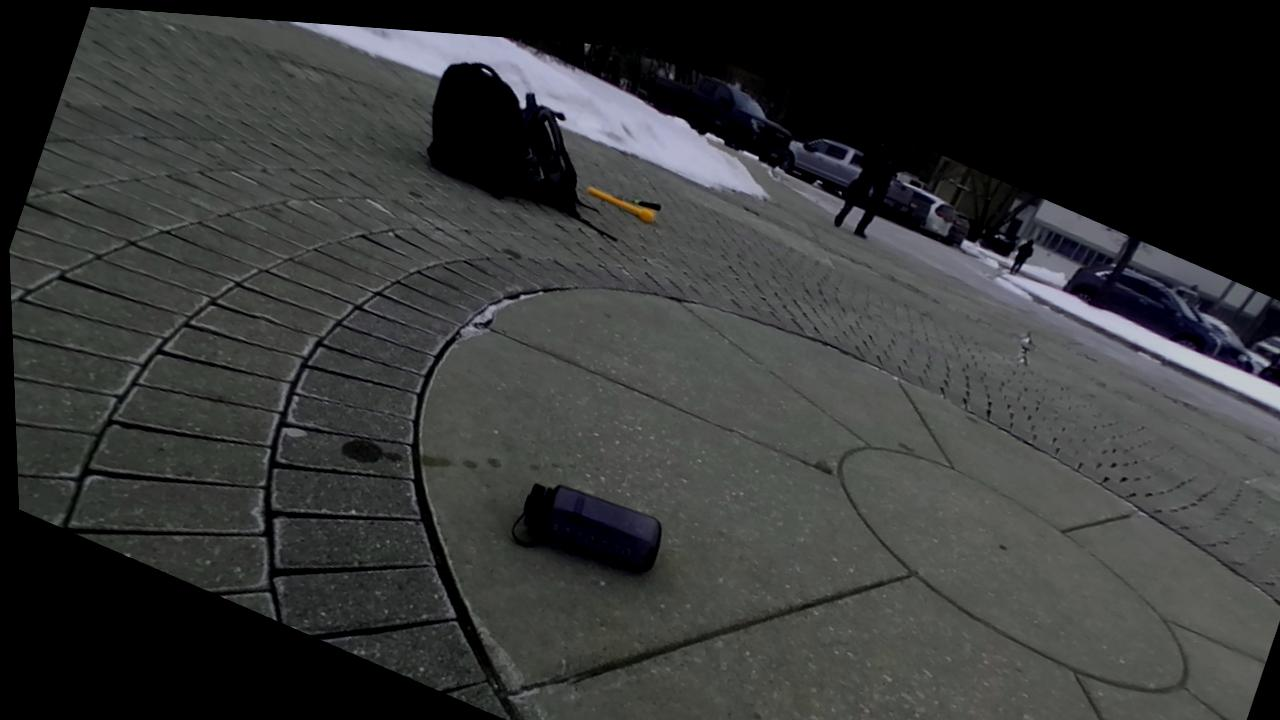bottle: (522, 484, 660, 570)
mallet: (588, 187, 652, 222)
